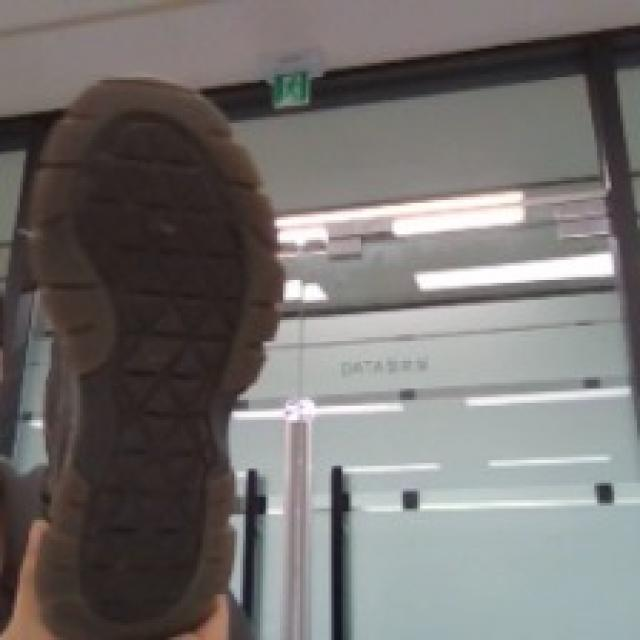shoe: (31, 68, 288, 640)
